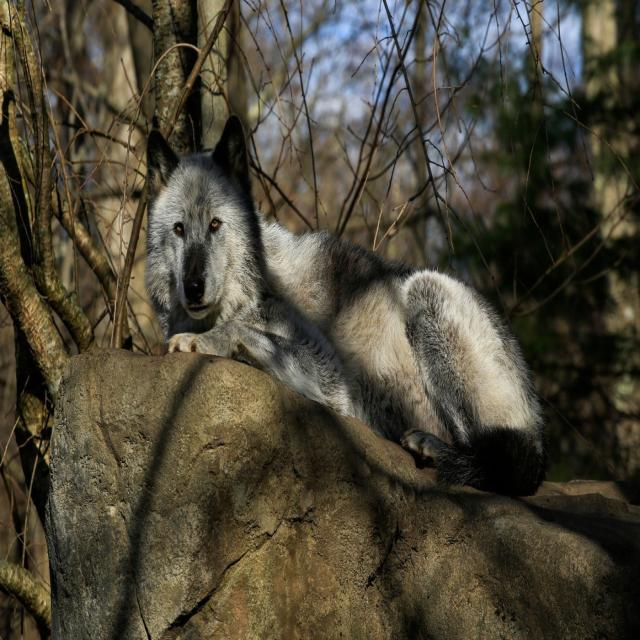wolf: (145, 116, 546, 495)
